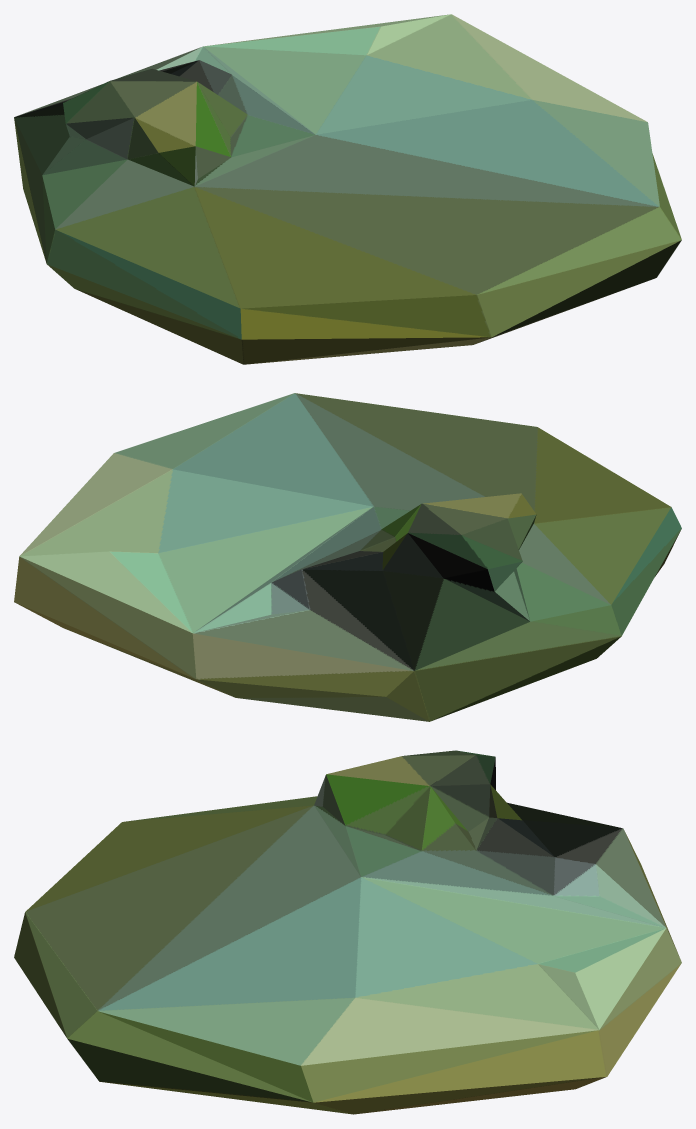
The model's file is swamp.fbx.
The picture shows the model from 3 angles, top to bottom: view 1: azimuth 30°, elevation 25°; view 2: azimuth 150°, elevation 25°; view 3: azimuth 270°, elevation 25°; orthographic projection. The views are drawn at different scales.
Visible parts, largest first — view 1: Mesh_0; view 2: Mesh_0; view 3: Mesh_0.
Boxes of the visible parts, left/top/right/bottom form: Mesh_0: left=14, top=14, right=681, bottom=364; Mesh_0: left=14, top=393, right=681, bottom=721; Mesh_0: left=14, top=750, right=681, bottom=1114.
Size of the model in its own units: 120 by 32.31 by 119.
Materials: 1 (1 with a texture image).
